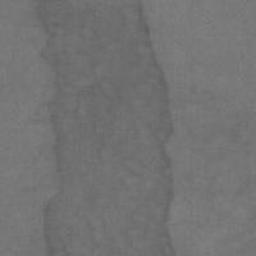Water spot: (28, 0, 175, 256)
